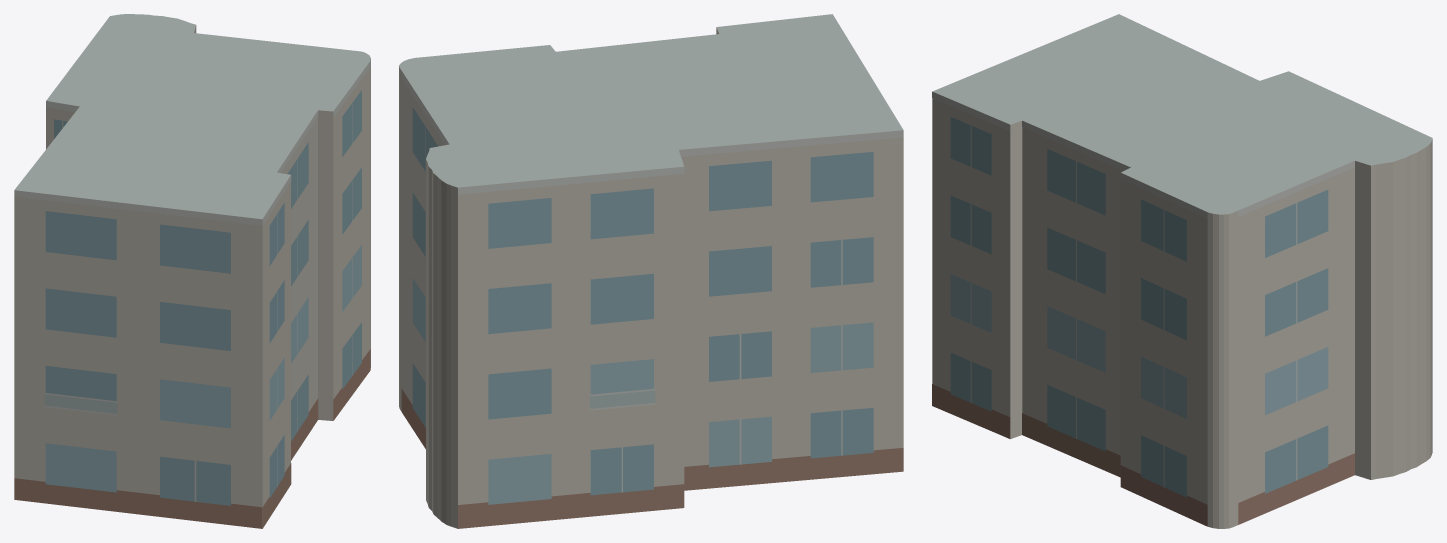
File: survey-upis-32597811.glb
3 renders of one model, left to right at view 1: azimuth 30°, elevation 25°; view 2: azimuth 150°, elevation 25°; view 3: azimuth 270°, elevation 25°, orthographic. The views are drawn at different scales.
Parts seen in each view (by area): view 1: survey-upis-32597811.tmp; view 2: survey-upis-32597811.tmp; view 3: survey-upis-32597811.tmp.
Part boxes in pixels (x1=…): survey-upis-32597811.tmp: x1=14, y1=14, x2=370, y2=528; survey-upis-32597811.tmp: x1=399, y1=14, x2=903, y2=528; survey-upis-32597811.tmp: x1=932, y1=14, x2=1432, y2=528.
Size of the model in its own units: 16.07 by 11.75 by 16.96.
